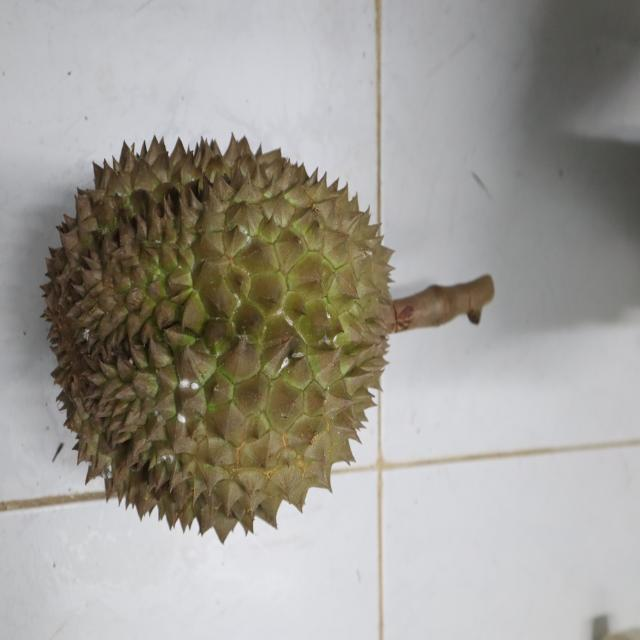mature: (40, 128, 398, 547)
